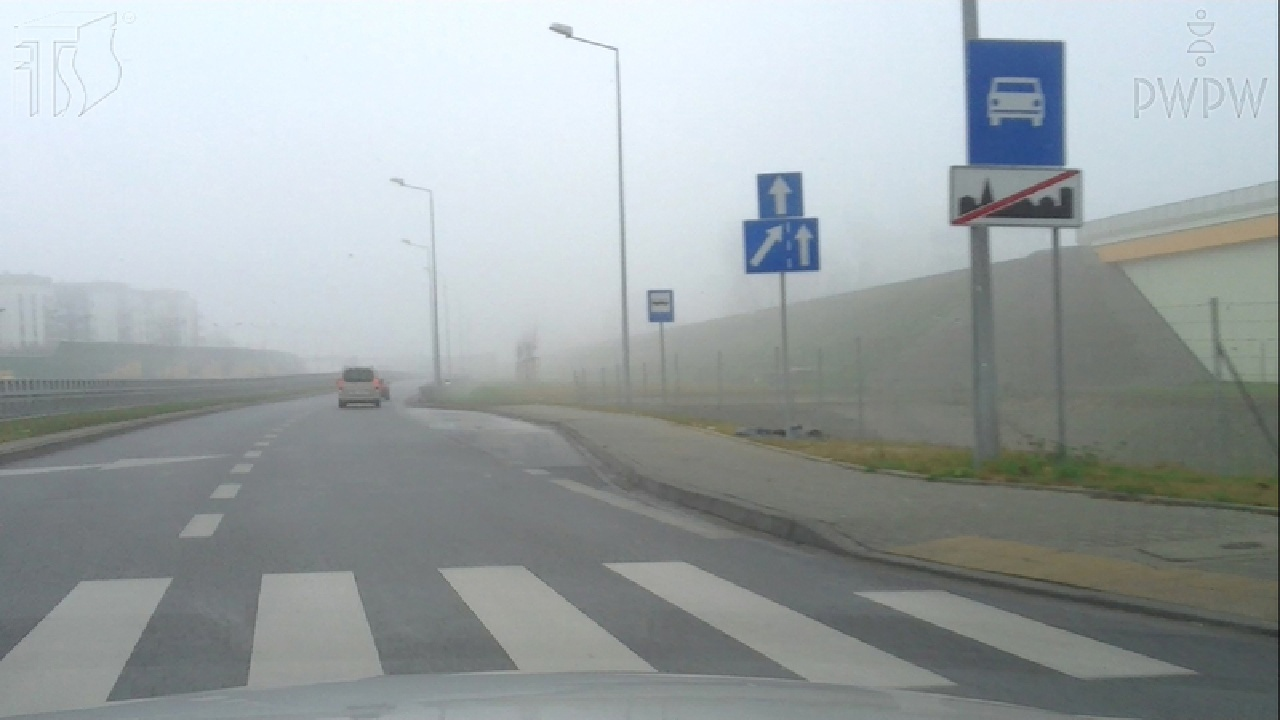D3: (755, 172, 804, 218)
D43: (949, 164, 1086, 228)
D7: (967, 39, 1069, 168)
